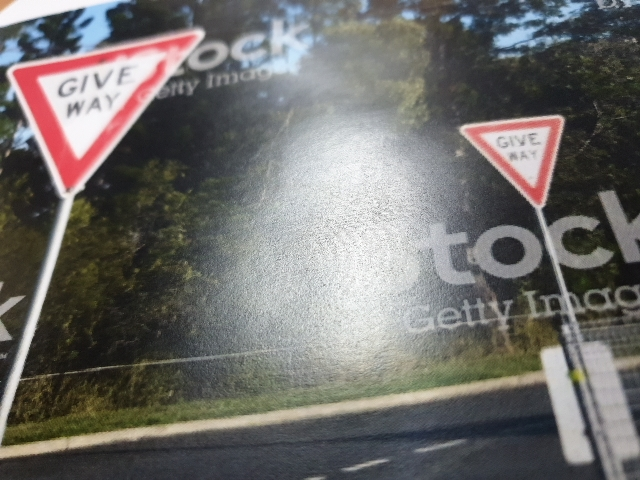giveway: (6, 70, 197, 169), (454, 118, 586, 209)
